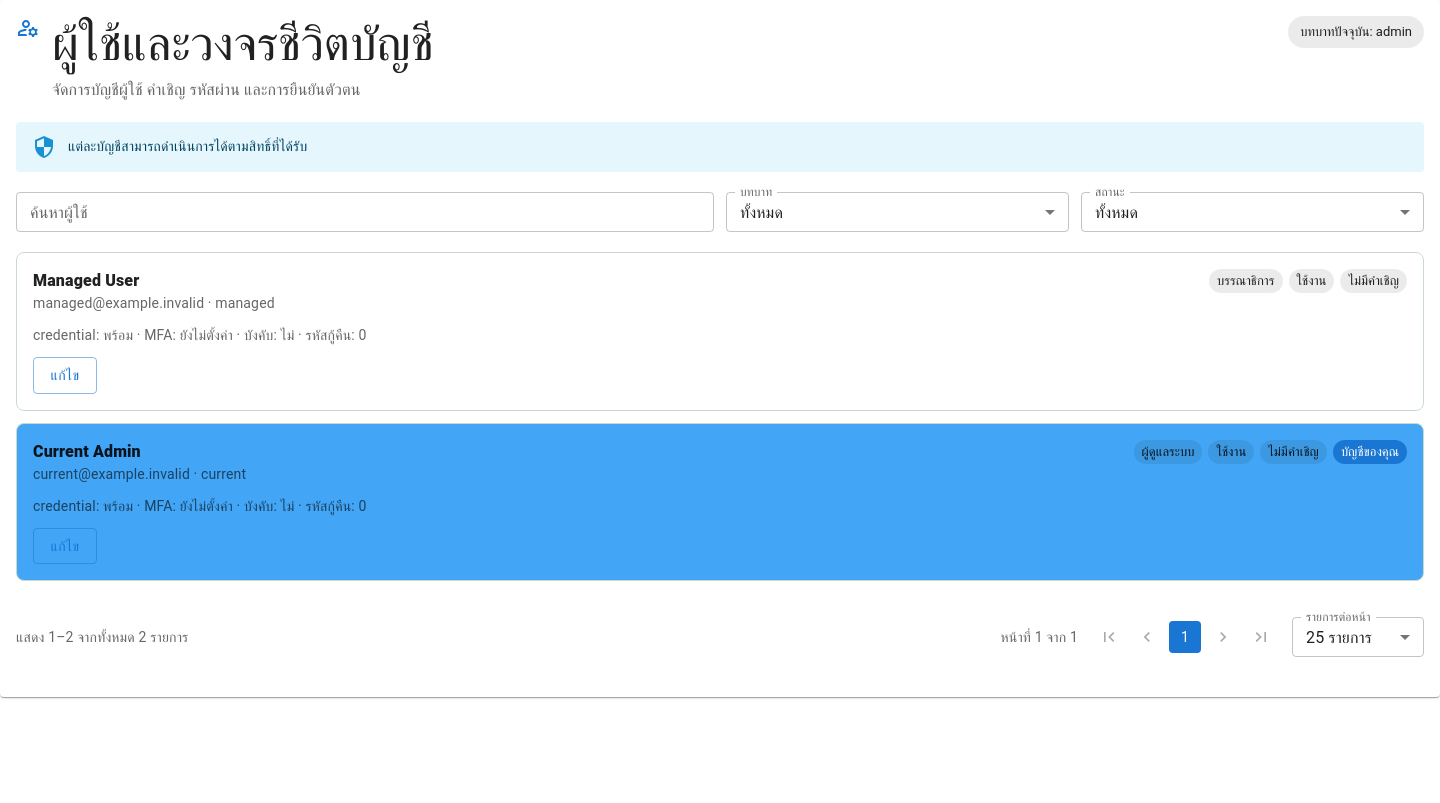
UserManagementCard profile editing › shows backend 403 and 409 failures without closing the edit form
This screenshot has width=1440, height=803.
Click the button "แก้ไข" below "managed@example.invalid".
click(65, 375)  # box [33,357,97,394]
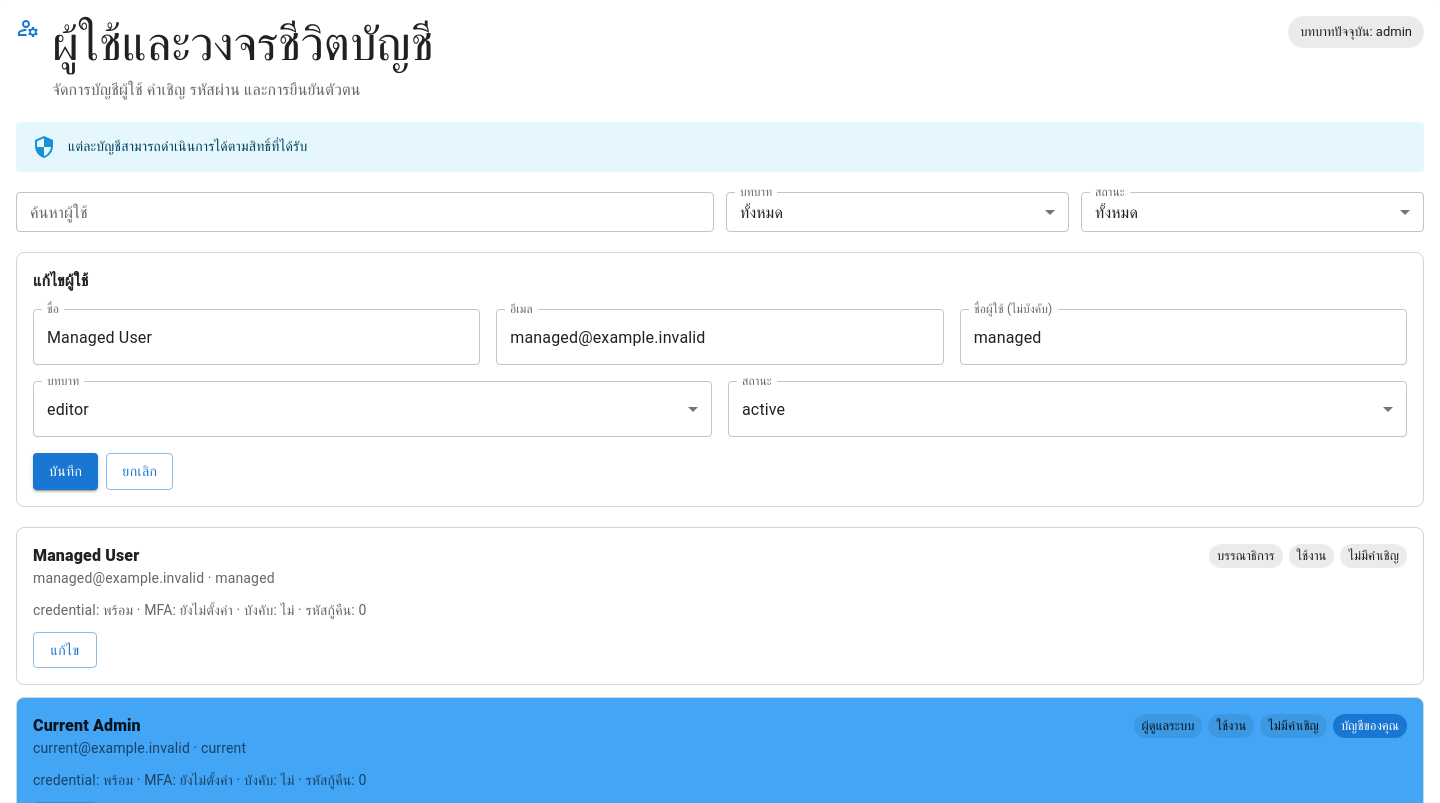
Replace the text in the field labelled "ชื่อ" with "Changed Name" at (257, 337), box [33,309,480,365]
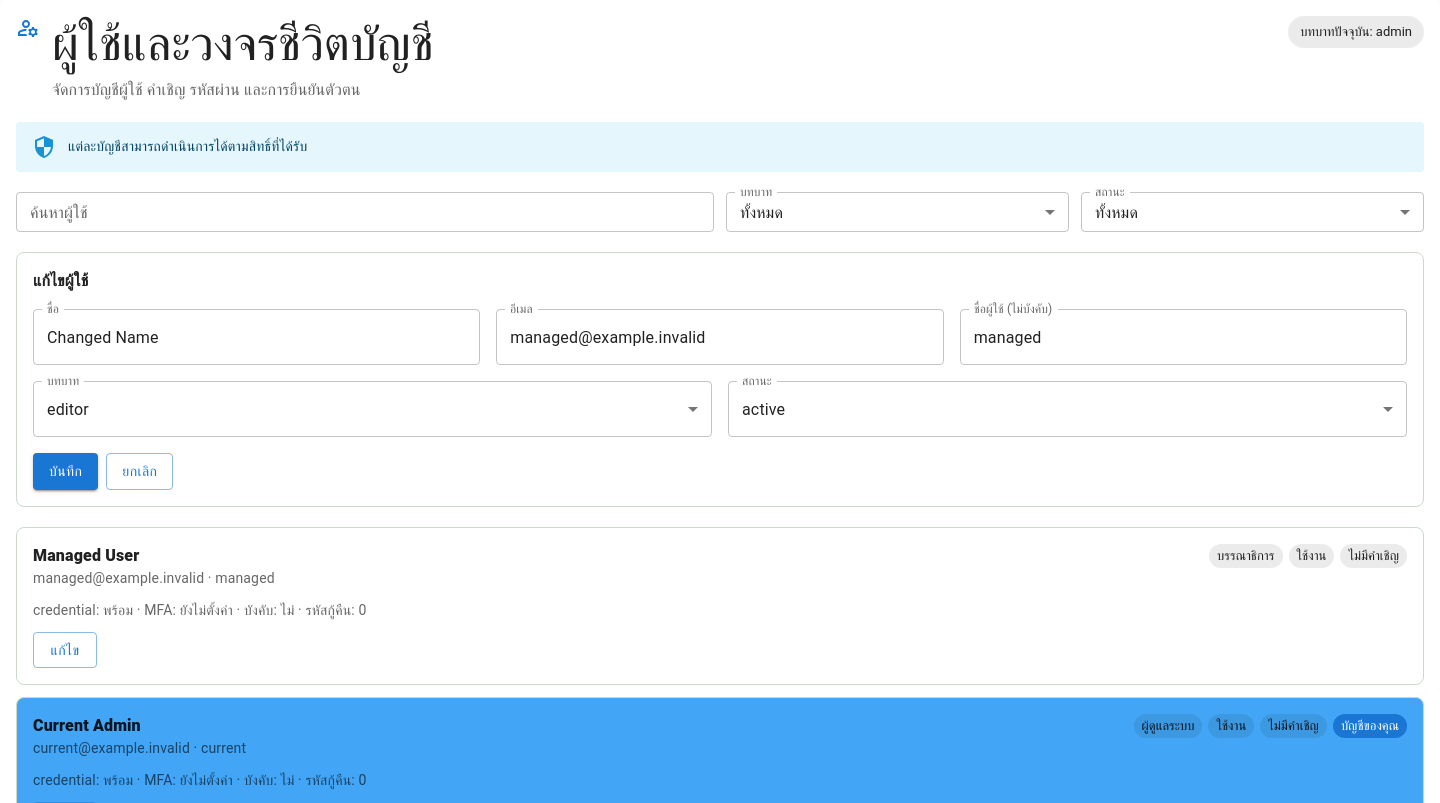
Click the button "บันทึก".
click(66, 471)  # box [33,453,98,490]
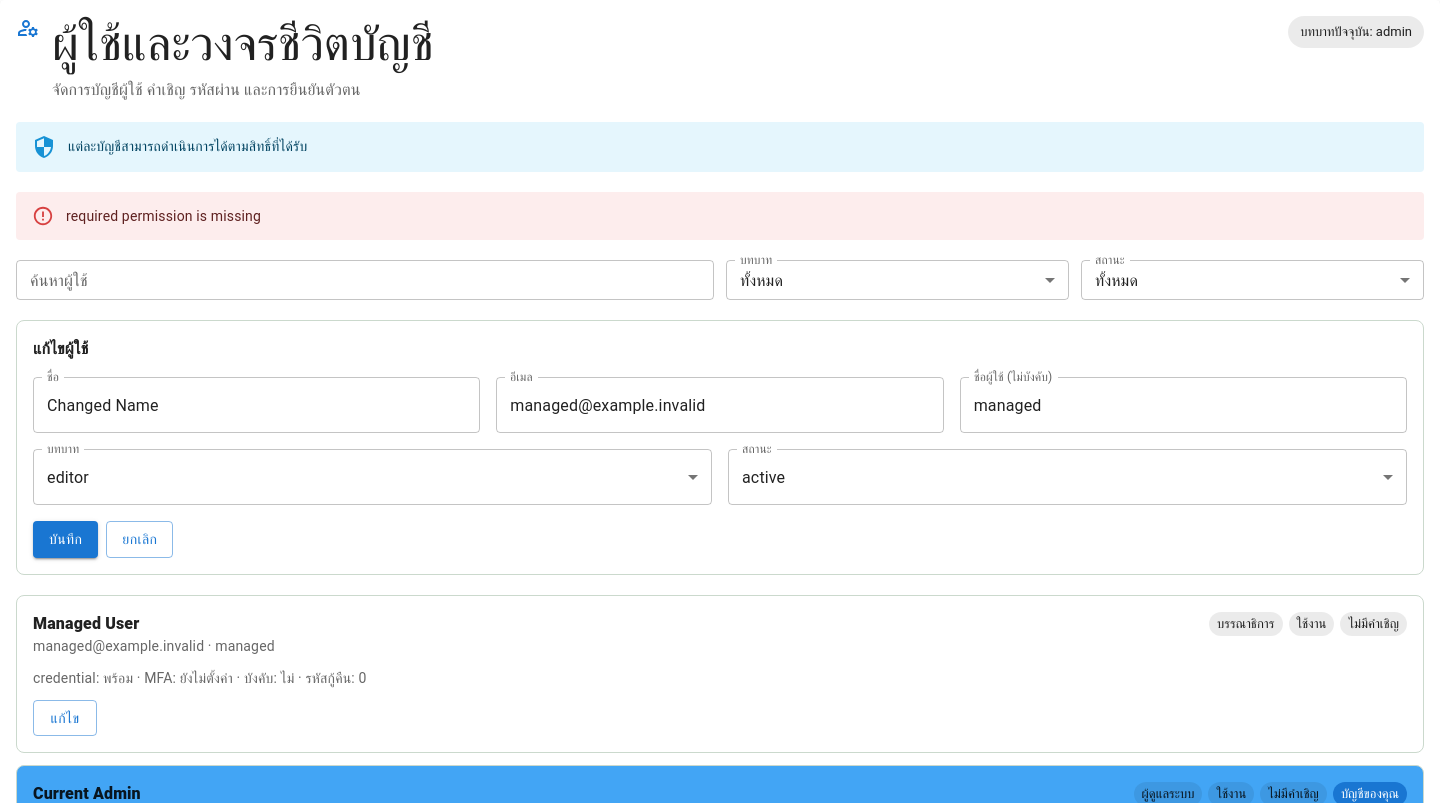
expect the button "บันทึก" is shown: met
expect the text "required permission is missing" is shown: met, box [66,208,261,224]
Click the button "บันทึก".
click(66, 539)  # box [33,521,98,558]
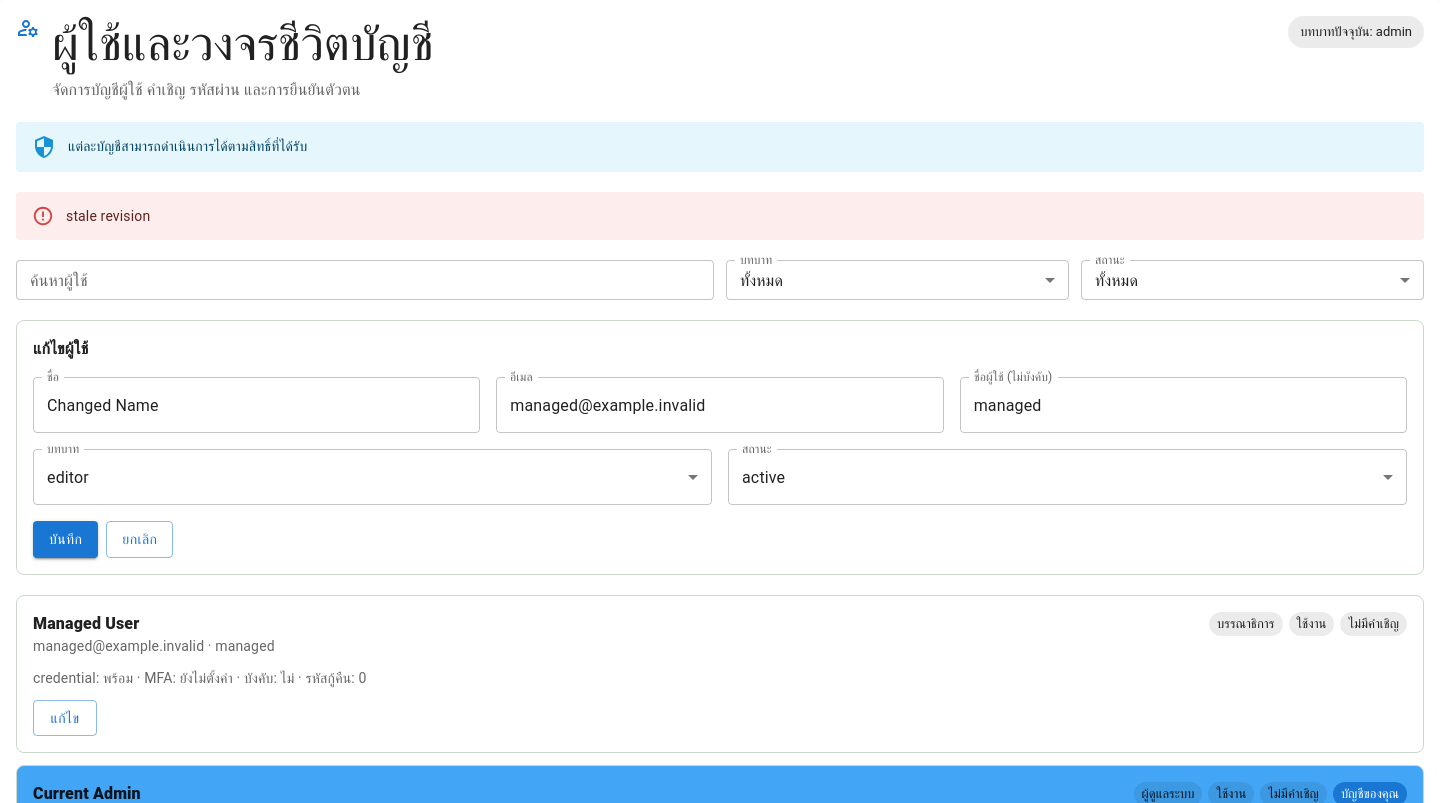
expect the button "บันทึก" is shown: met, box [33,521,98,558]
expect the text "stale revision" is shown: met, box [66,208,150,224]
